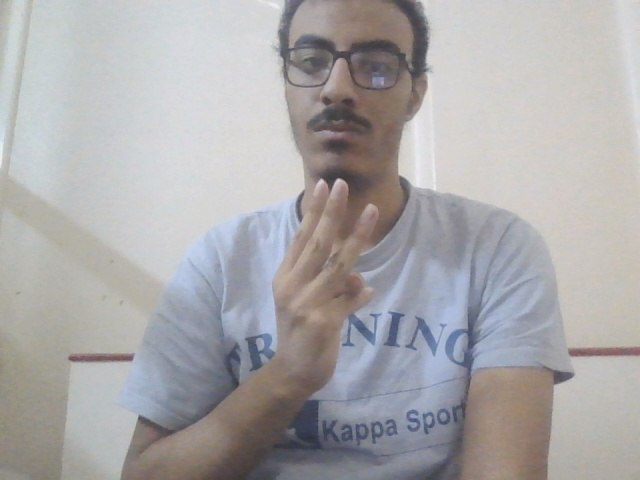Water: (258, 174, 388, 386)
